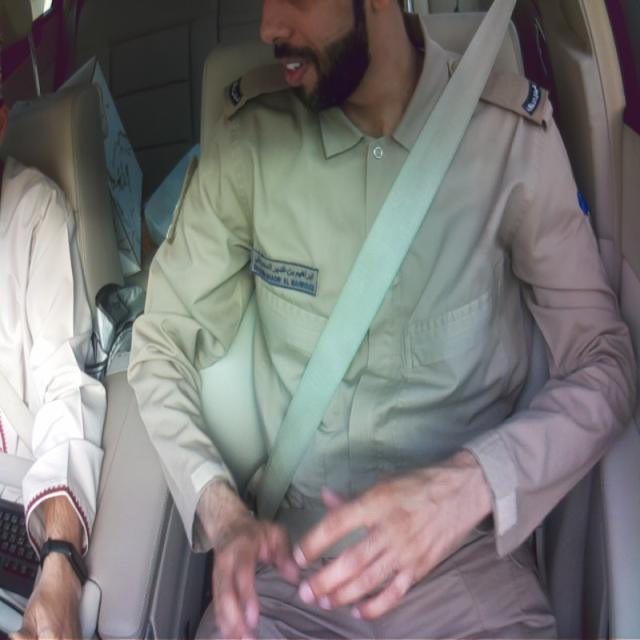seatbelt: (256, 0, 514, 540), (326, 530, 365, 558), (465, 529, 484, 544)
